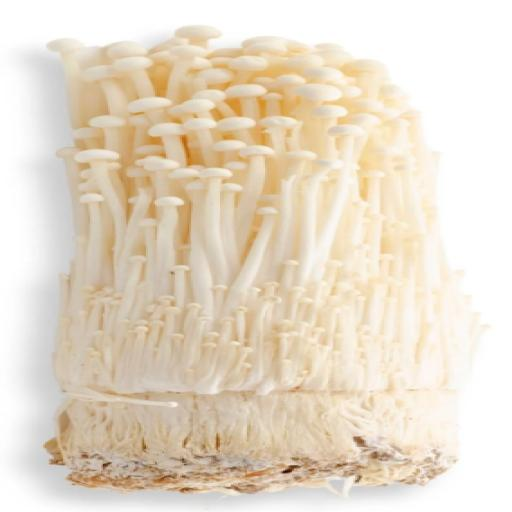Enoki Mushroom: (38, 24, 479, 493)
